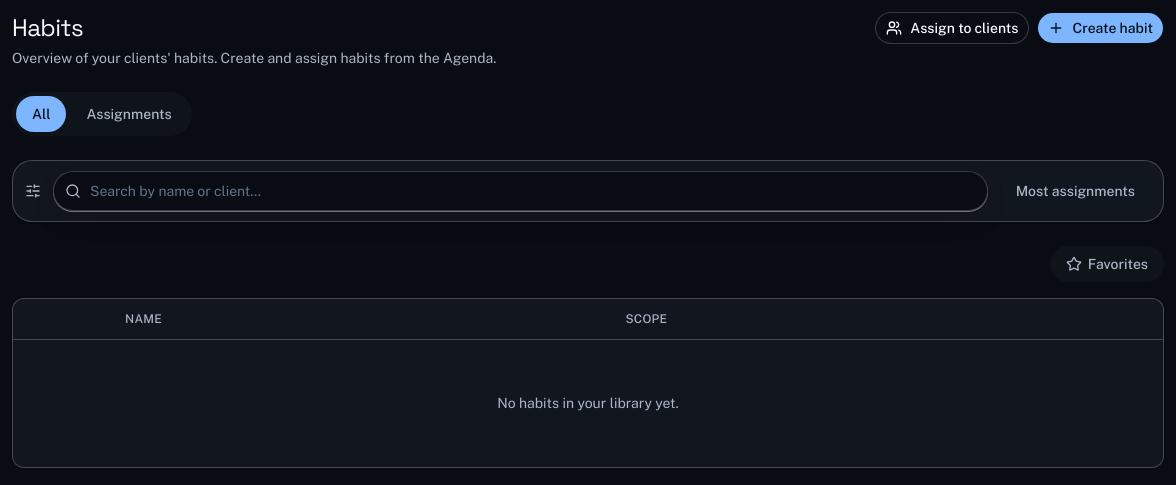
Scenario: Habits — assignments visibility › hides a soft-deleted habit
Click the button "Assignments" at (129, 114), box [70, 96, 188, 132]
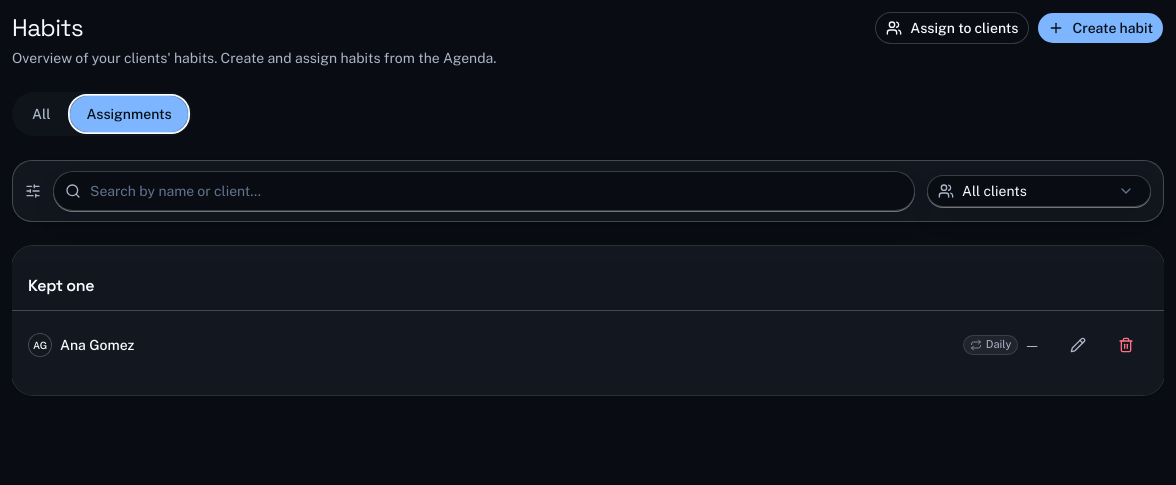
Result: the heading "Kept one" is shown at [28, 274, 94, 298]
